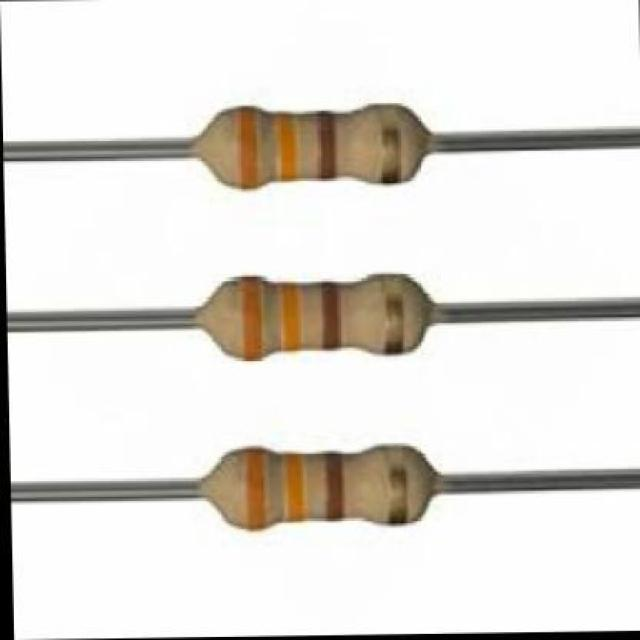Resistor: (9, 274, 640, 359), (4, 104, 640, 188), (12, 445, 640, 529)
